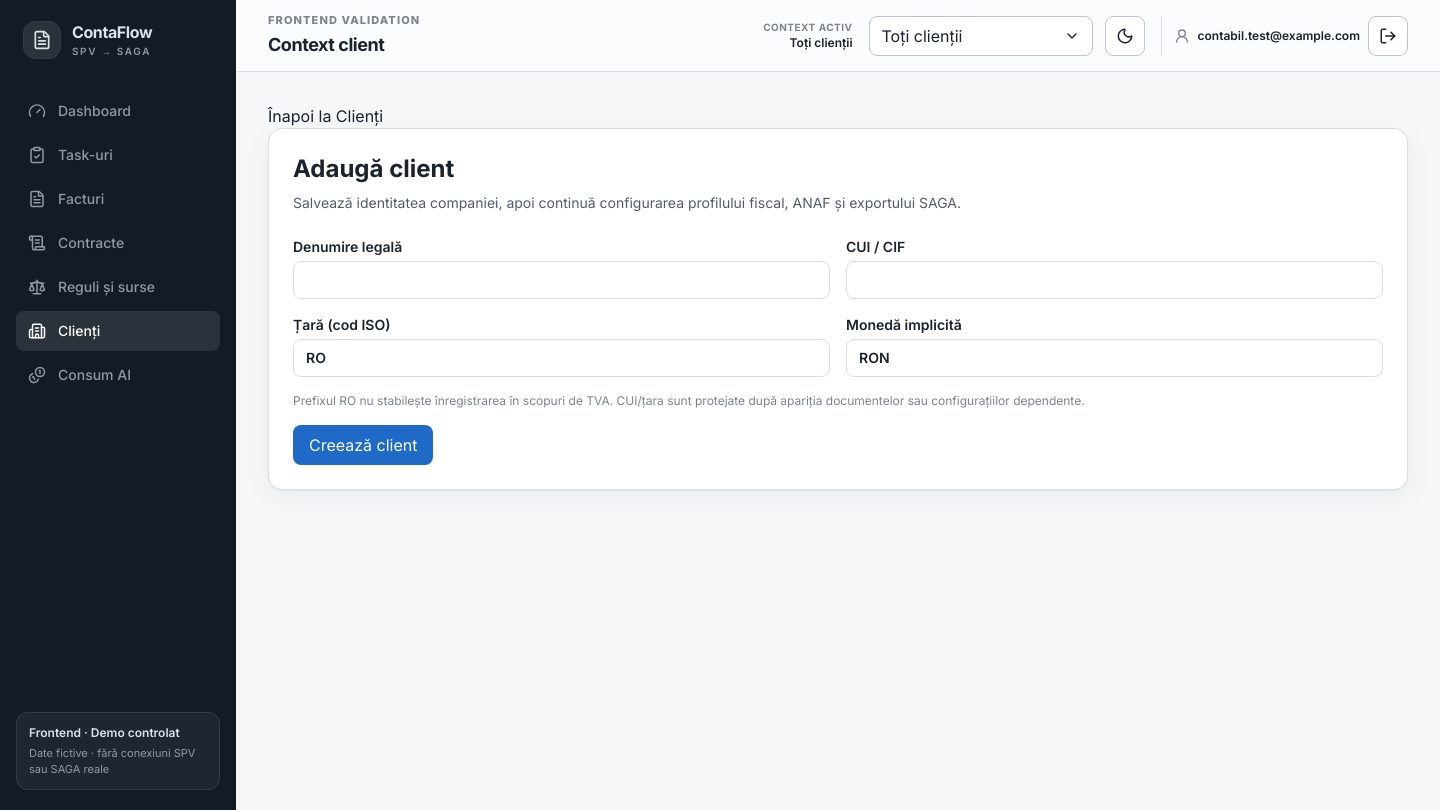
Test: Client management onboarding › creates minimum company and continues on its saved detail
The width and height of the screenshot is (1440, 810).
Type "Client Nou SRL" into the field labelled "Denumire legală". click: point(562, 280)
box: [293,261,830,299]
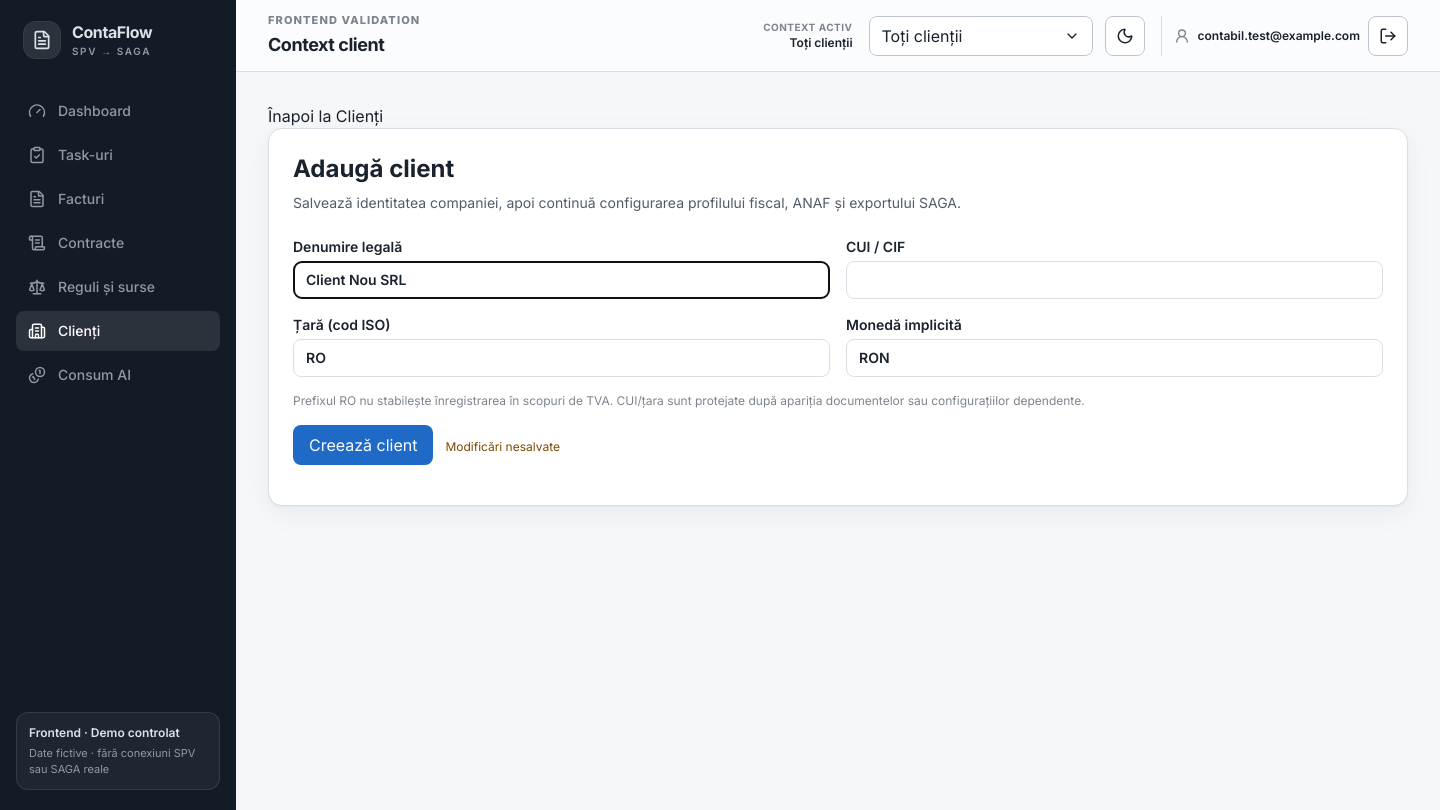
Type "RO12345678" into the field labelled "CUI / CIF". click: point(1114, 280)
box: [846,261,1383,299]
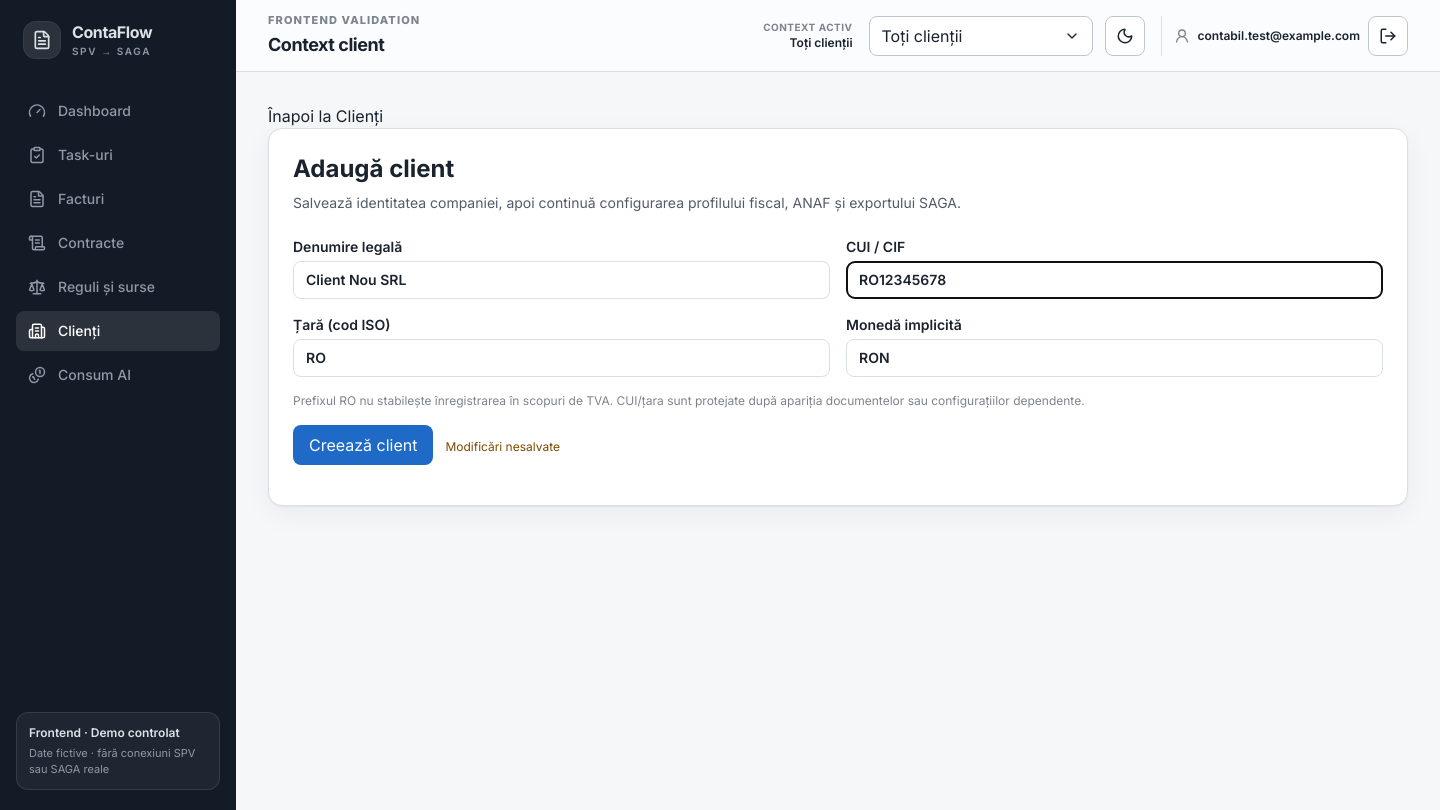
Click the button "Creează client". click: point(363, 445)
box: [293,425,434,465]
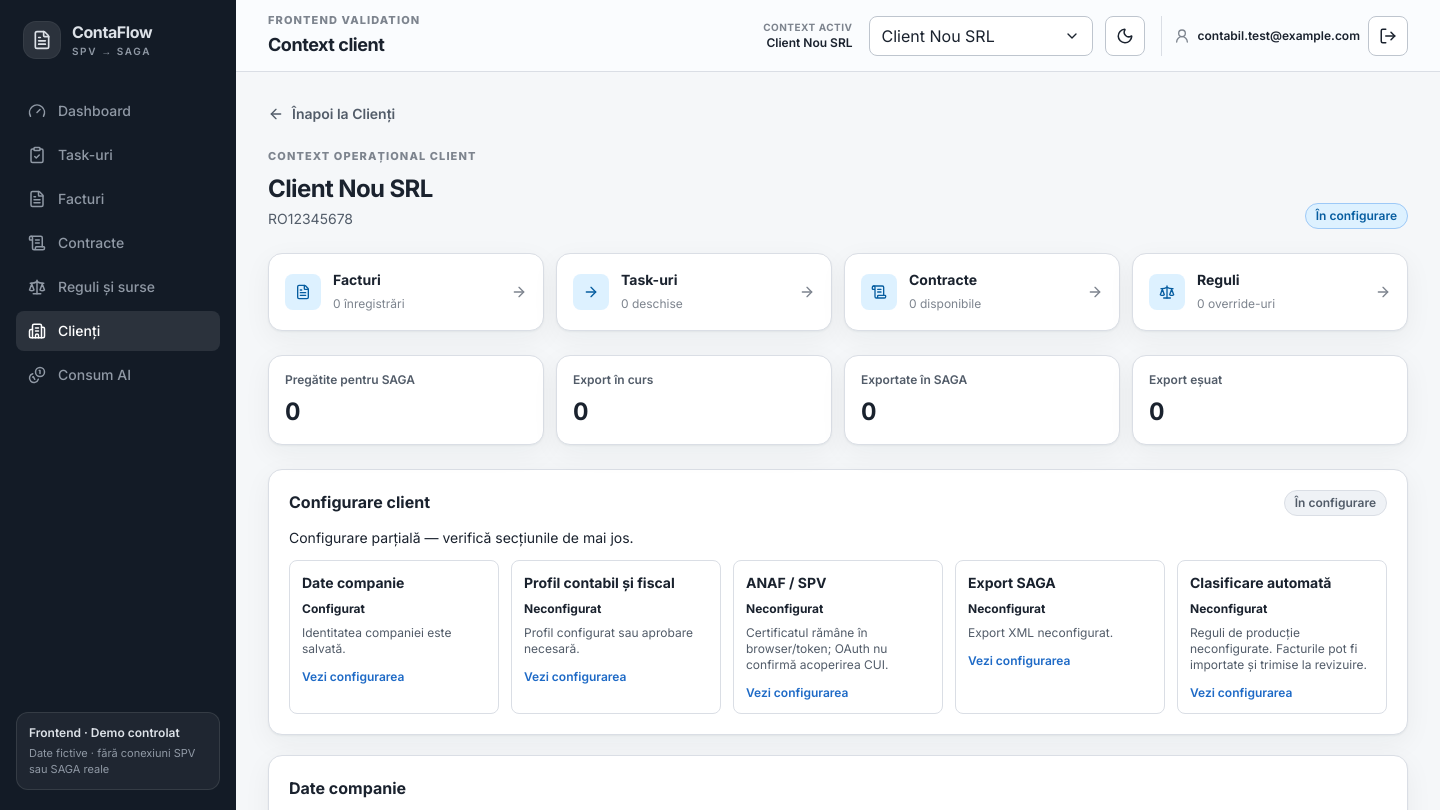
Now the heading "Client Nou SRL" is shown, box [268,174,433,202]
Now the text "Configurare parțială — verifică secțiunile de mai jos." is shown, box [289,528,634,546]
Now the text "Reguli de producție neconfigurate" is shown, box [1190,624,1367,672]
